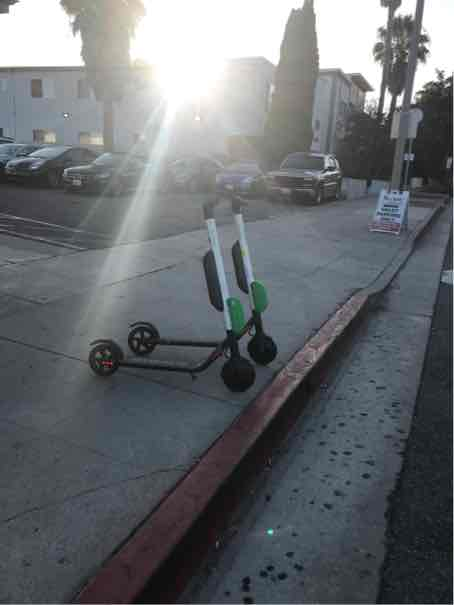scooter: (73, 176, 277, 401)
